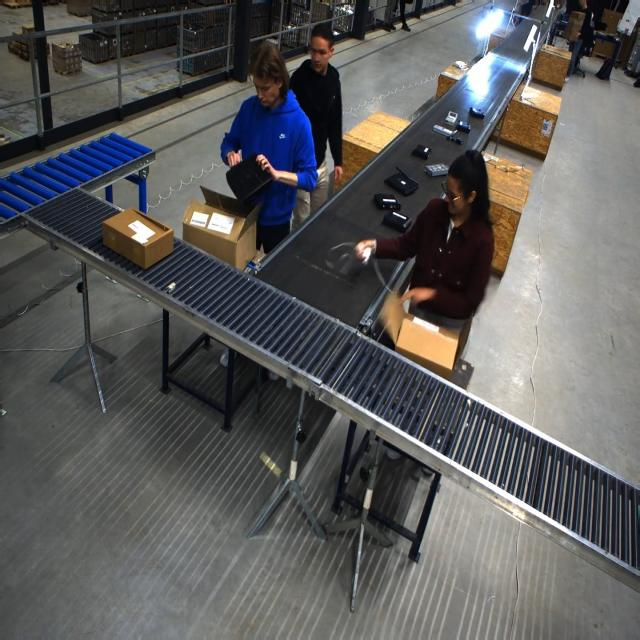box: (370, 292, 472, 377), (181, 178, 266, 276), (95, 201, 177, 271), (593, 9, 633, 62), (562, 11, 586, 43), (600, 8, 623, 33)
product: (219, 151, 273, 198), (383, 168, 418, 196), (382, 210, 412, 233), (373, 193, 401, 211), (423, 164, 448, 178), (410, 144, 431, 160), (432, 124, 456, 137), (455, 120, 471, 133), (444, 111, 458, 125), (469, 107, 485, 119), (448, 134, 464, 144), (453, 60, 468, 70)
